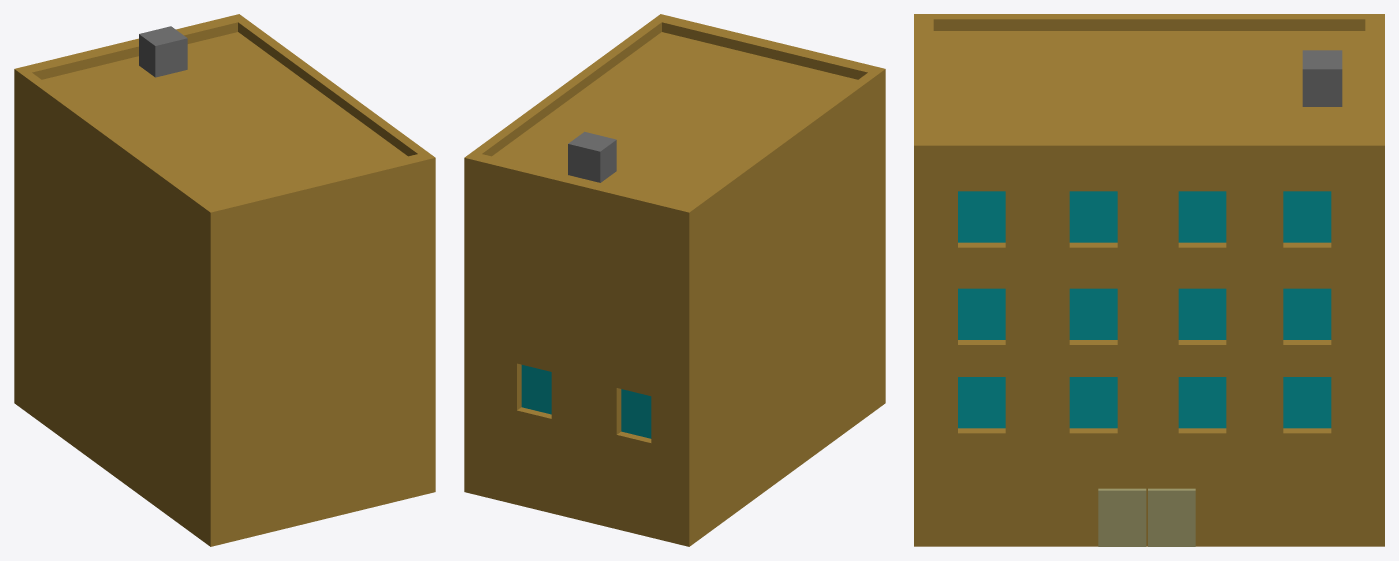
The model's file is House3.fbx.
3 views of the same model, side by side, from view 1: azimuth 30°, elevation 25°; view 2: azimuth 150°, elevation 25°; view 3: azimuth 270°, elevation 25° (orthographic). The views are drawn at different scales.
Visible parts, largest first — view 1: House3; view 2: House3; view 3: House3.
Part boxes in pixels (x1=…): House3: x1=14, y1=14, x2=435, y2=546; House3: x1=464, y1=14, x2=885, y2=546; House3: x1=914, y1=14, x2=1384, y2=546.
Bounding box in the file's own units: 1.87 × 2.79 × 2.79.
